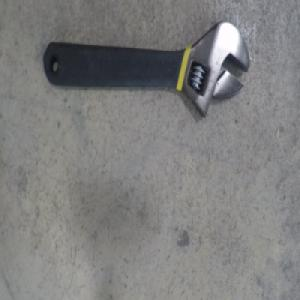AdjustableWrench: (42, 19, 248, 119)
